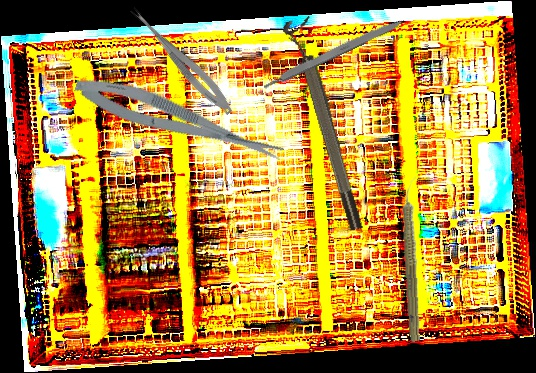Fixation Ring: (281, 15, 367, 235)
Handpiece: (398, 176, 427, 342)
Micro Scissor: (70, 66, 287, 176), (123, 3, 239, 119)
Scalpel Handle: (260, 14, 407, 91)
